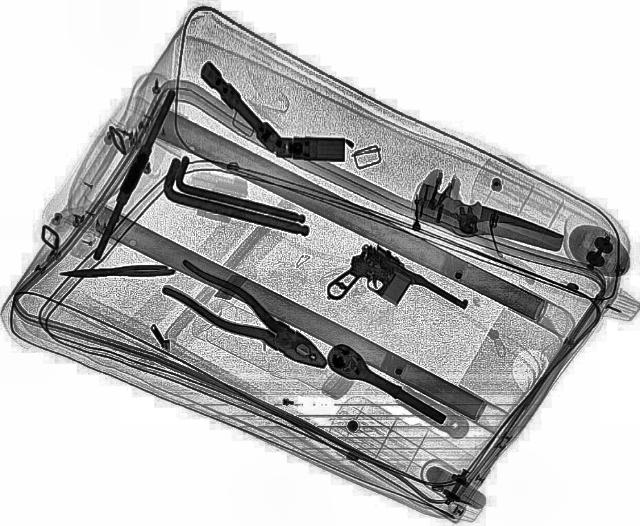Gun: (316, 237, 472, 352)
Pliers: (152, 260, 344, 380), (59, 262, 179, 280)
